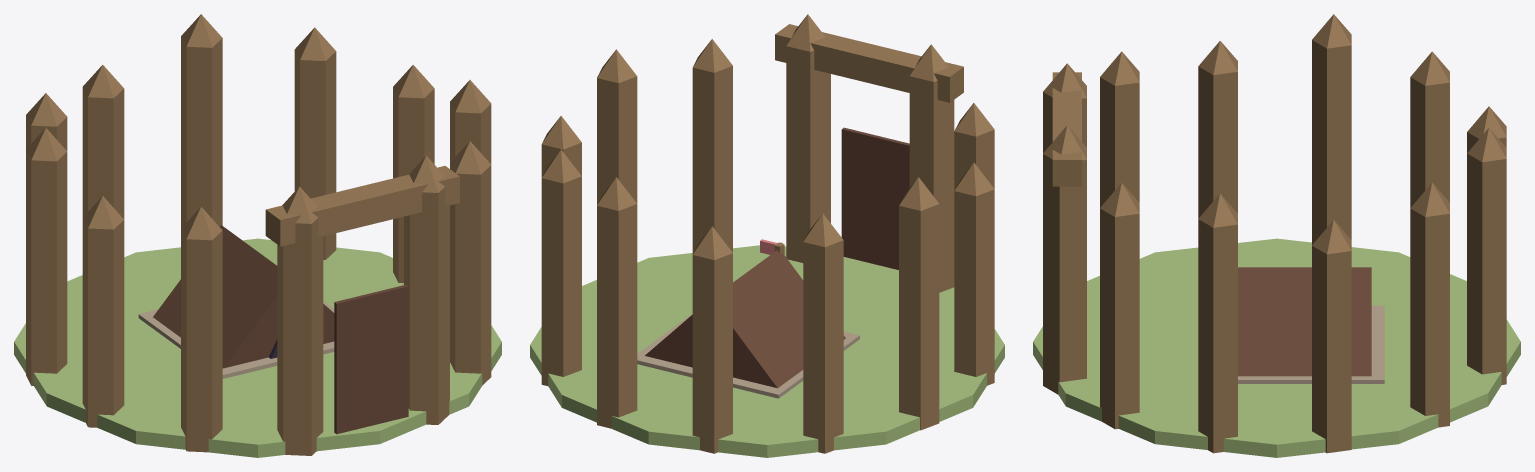
File: medieval-g1.glb
The picture shows the model from 3 angles, left to right: view 1: azimuth 30°, elevation 25°; view 2: azimuth 150°, elevation 25°; view 3: azimuth 270°, elevation 25°; orthographic projection. The views are drawn at different scales.
Visible parts, largest first — view 1: medieval-g1; view 2: medieval-g1; view 3: medieval-g1.
Boxes of the visible parts, x1,y1,x2,y2 form: medieval-g1: [14, 14, 501, 457]; medieval-g1: [530, 14, 1004, 457]; medieval-g1: [1033, 14, 1520, 457].
Size of the model in its own units: 2 by 1.18 by 2.
